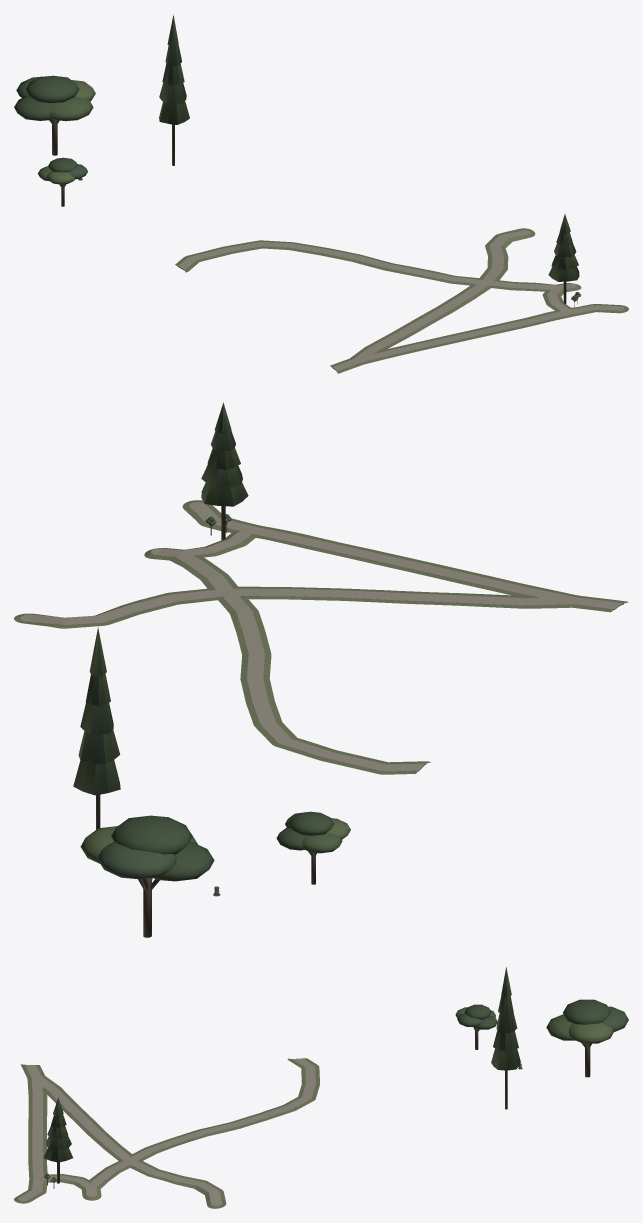
The model's file is site.glb.
3 views of the same model, one above another, from view 1: azimuth 30°, elevation 25°; view 2: azimuth 150°, elevation 25°; view 3: azimuth 270°, elevation 25° (orthographic). The views are drawn at different scales.
Parts seen in each view (by area): view 1: old-campus-quad-crosswalks, old-campus-quad-inventory-trees; view 2: old-campus-quad-crosswalks, old-campus-quad-inventory-trees; view 3: old-campus-quad-crosswalks, old-campus-quad-inventory-trees.
Boxes of the visible parts, x1,y1,x2,y2 form: old-campus-quad-crosswalks: [175, 228, 628, 373]; old-campus-quad-inventory-trees: [14, 14, 581, 306]; old-campus-quad-crosswalks: [14, 500, 628, 774]; old-campus-quad-inventory-trees: [73, 402, 350, 937]; old-campus-quad-crosswalks: [14, 1058, 319, 1208]; old-campus-quad-inventory-trees: [43, 967, 628, 1188].
Bounding box in the file's own units: 74.95 × 31.73 × 119.
